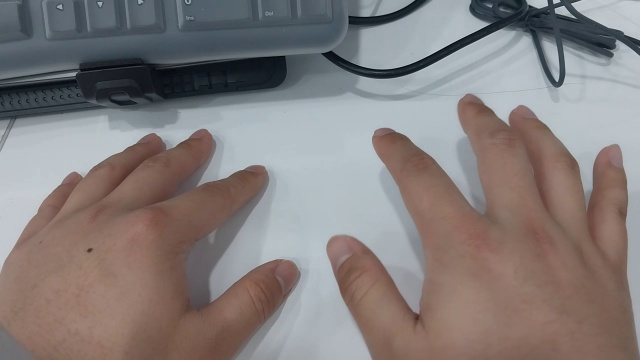fingers: (325, 234, 353, 274), (274, 258, 301, 296), (605, 142, 623, 171), (513, 104, 537, 120), (460, 92, 485, 106), (60, 170, 79, 187), (189, 127, 211, 141), (371, 126, 396, 138), (137, 131, 159, 144), (242, 163, 267, 174)
